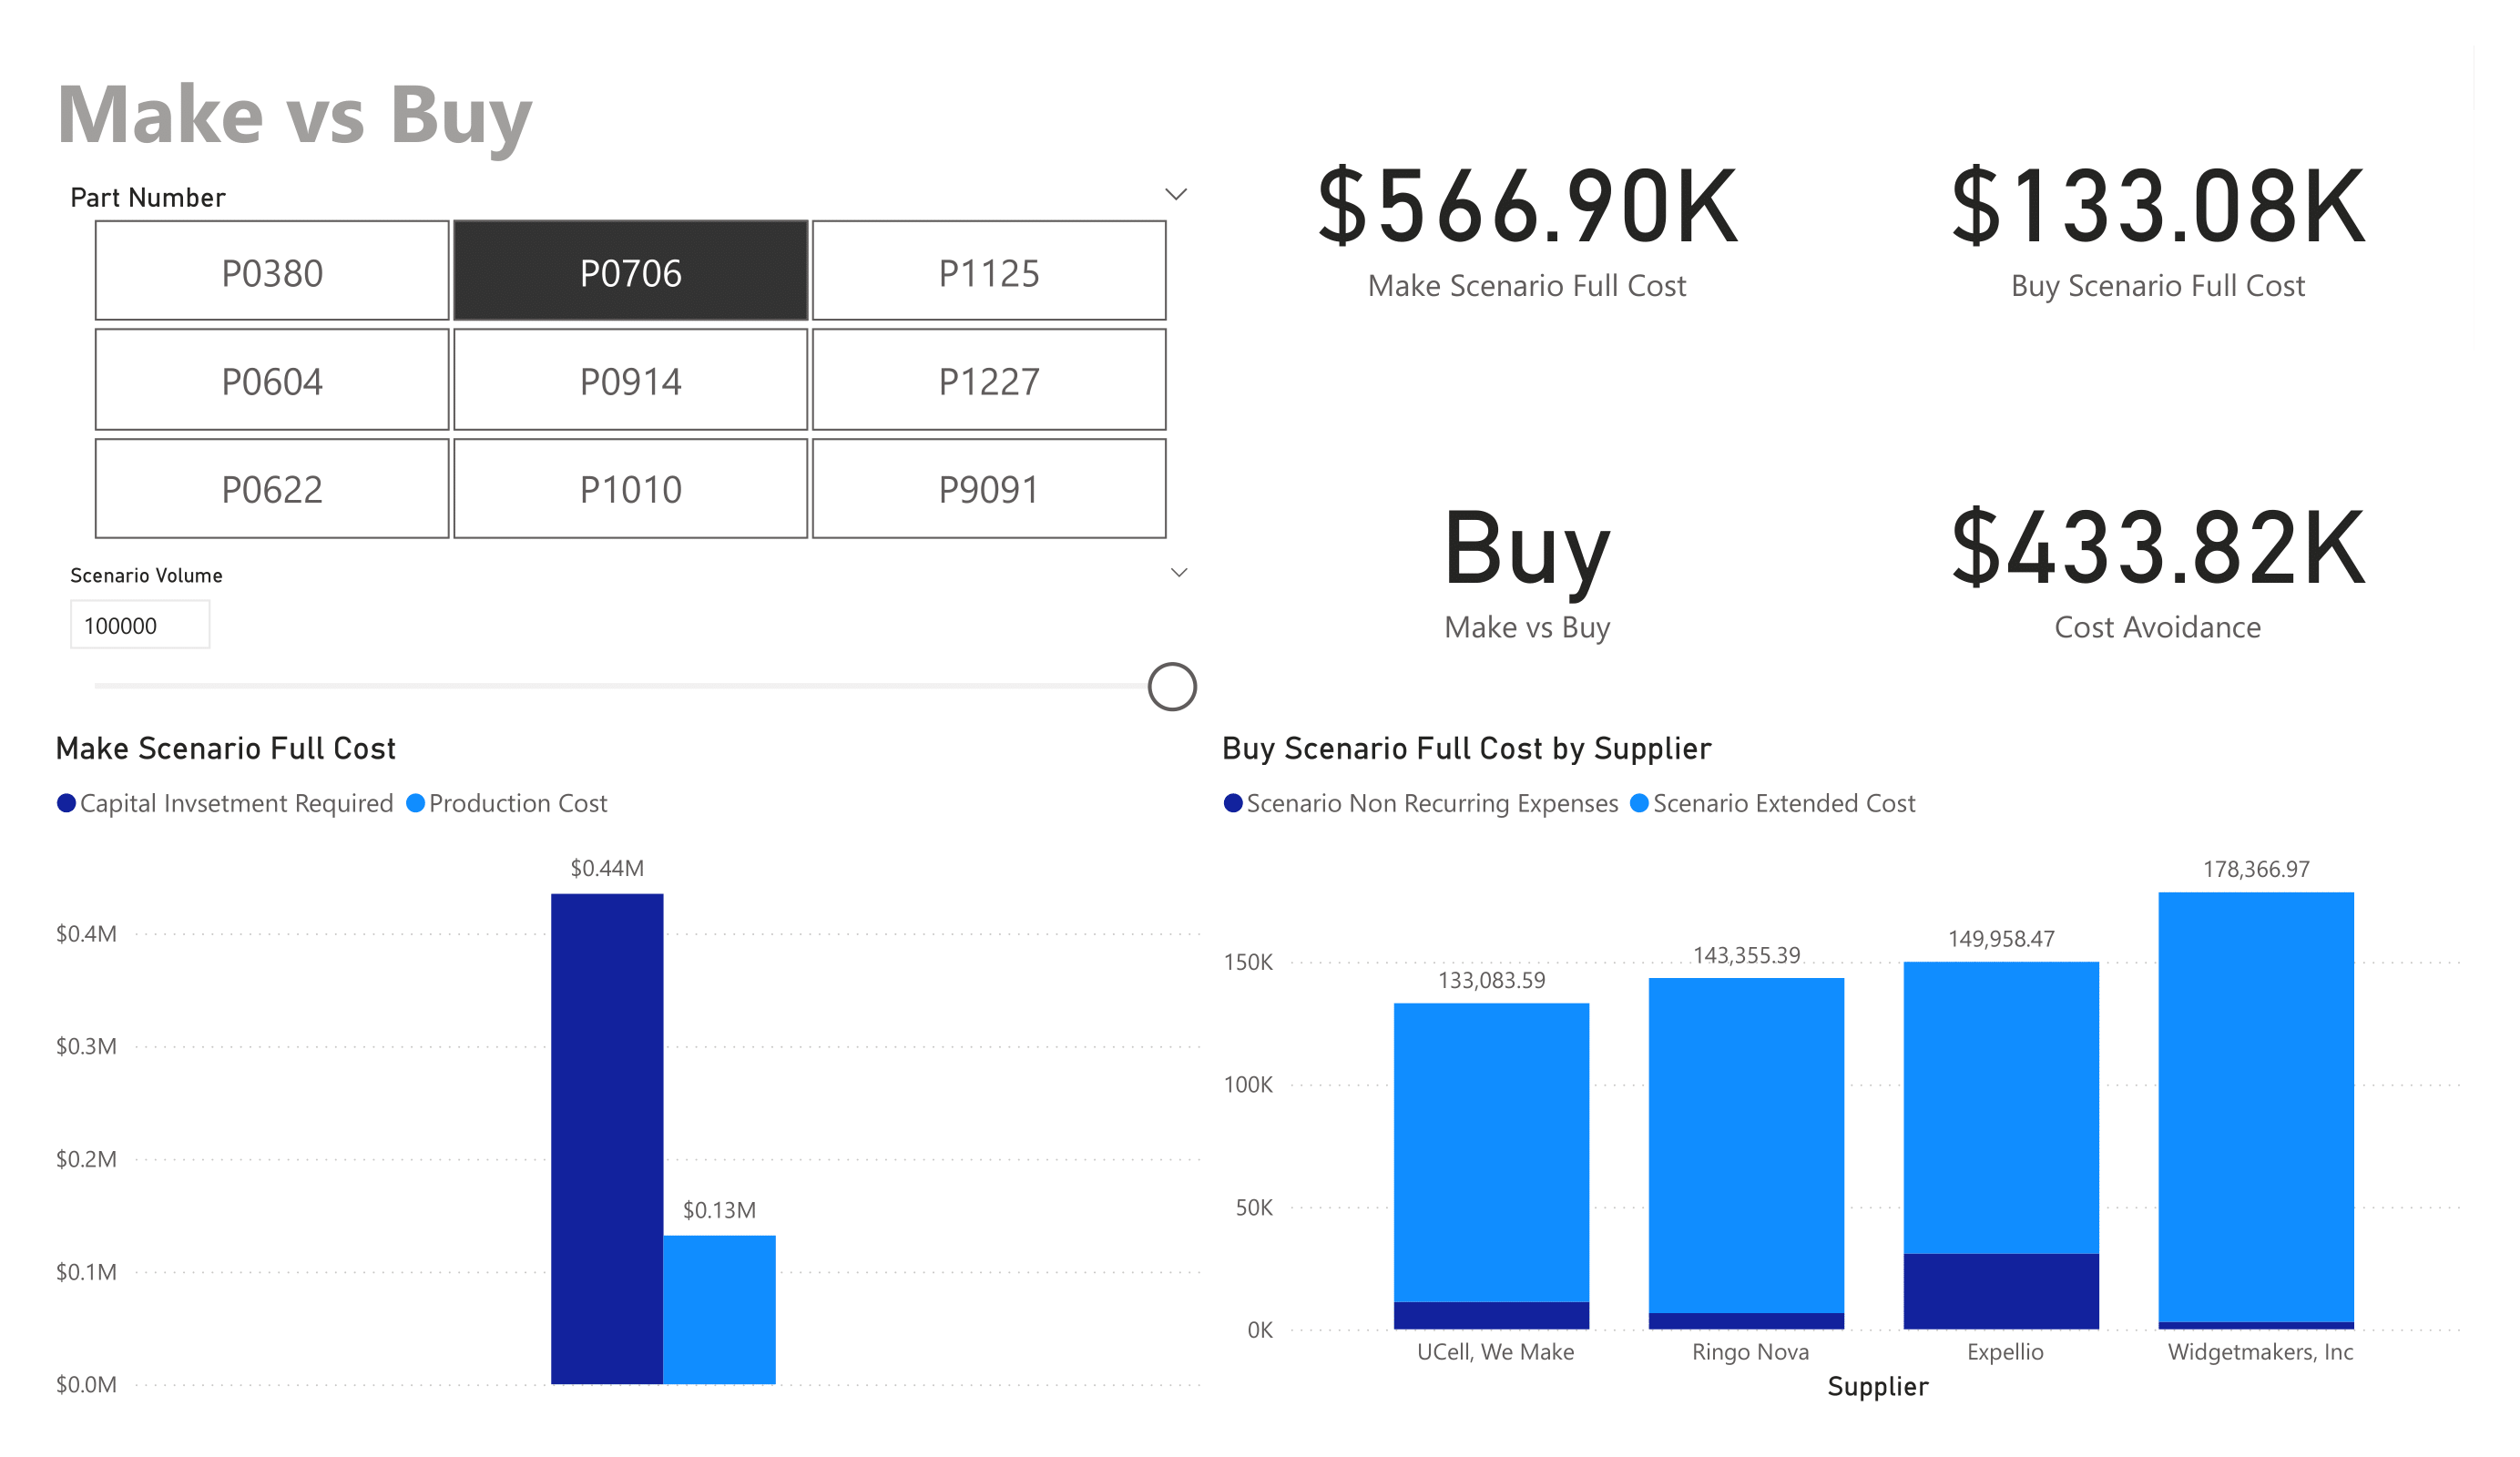

This screenshot's page, from the dashboard's own definition file:
{"tool":"powerbi","page":{"name":"Make vs Buy","canvas":[1280,720],"ordinal":3},"visuals":[{"type":"textbox","box":[0,0,359.7,67.3],"z":0},{"type":"slicer","fields":{"Values":["Product_Dimension.Part_Number"]},"box":[0,67.3,615,200.1],"z":1000},{"type":"slicer","fields":{"Values":["Scenario Volume.Scenario Volume"]},"box":[0,267.8,615.3,92],"z":2000},{"type":"card","fields":{"Values":["Internal_Mfg_Resource_Estimates.Make Scenario Full Cost"]},"box":[615,0,332.1,175.1],"z":3000},{"type":"card","fields":{"Values":["Scenario Volume.Make vs Buy"]},"box":[615,175.1,332.1,184.6],"z":4000},{"type":"card","fields":{"Values":["Scenario Volume.Cost Avoidance"]},"box":[947.1,175.1,332.9,184.6],"z":5000},{"type":"card","fields":{"Values":["Quotes.Buy Scenario Full Cost"]},"box":[947,0,333,175],"z":6000},{"type":"clusteredColumnChart","title":"Make Scenario Full Cost","fields":{"Y":["Internal_Mfg_Resource_Estimates.Capital Invsetment Required (Make)","Internal_Mfg_Resource_Estimates.Production Cost"]},"box":[0,359.7,615,360.5],"z":7000},{"type":"columnChart","title":"Buy Scenario Full Cost by Supplier","fields":{"Category":["Quotes.Supplier"],"Y":["Quotes.Sc_N_Rec_Cost","Quotes.Sc_Ex_Cost"]},"box":[615,359.7,665,360.5],"z":8000}]}

Visuals, with their boxes in screenshot pixels (x1, y1, x2, y2):
textbox: 46,46,728,173
slicer - Product_Dimension.Part_Number: 46,173,1212,553
slicer - Scenario Volume.Scenario Volume: 46,554,1213,728
card - Internal_Mfg_Resource_Estimates.Make Scenario Full Cost: 1212,46,1842,378
card - Scenario Volume.Make vs Buy: 1212,378,1842,728
card - Scenario Volume.Cost Avoidance: 1842,378,2474,728
card - Quotes.Buy Scenario Full Cost: 1842,46,2474,378
"Make Scenario Full Cost" clusteredColumnChart: 46,728,1212,1411
"Buy Scenario Full Cost by Supplier" columnChart: 1212,728,2474,1411
